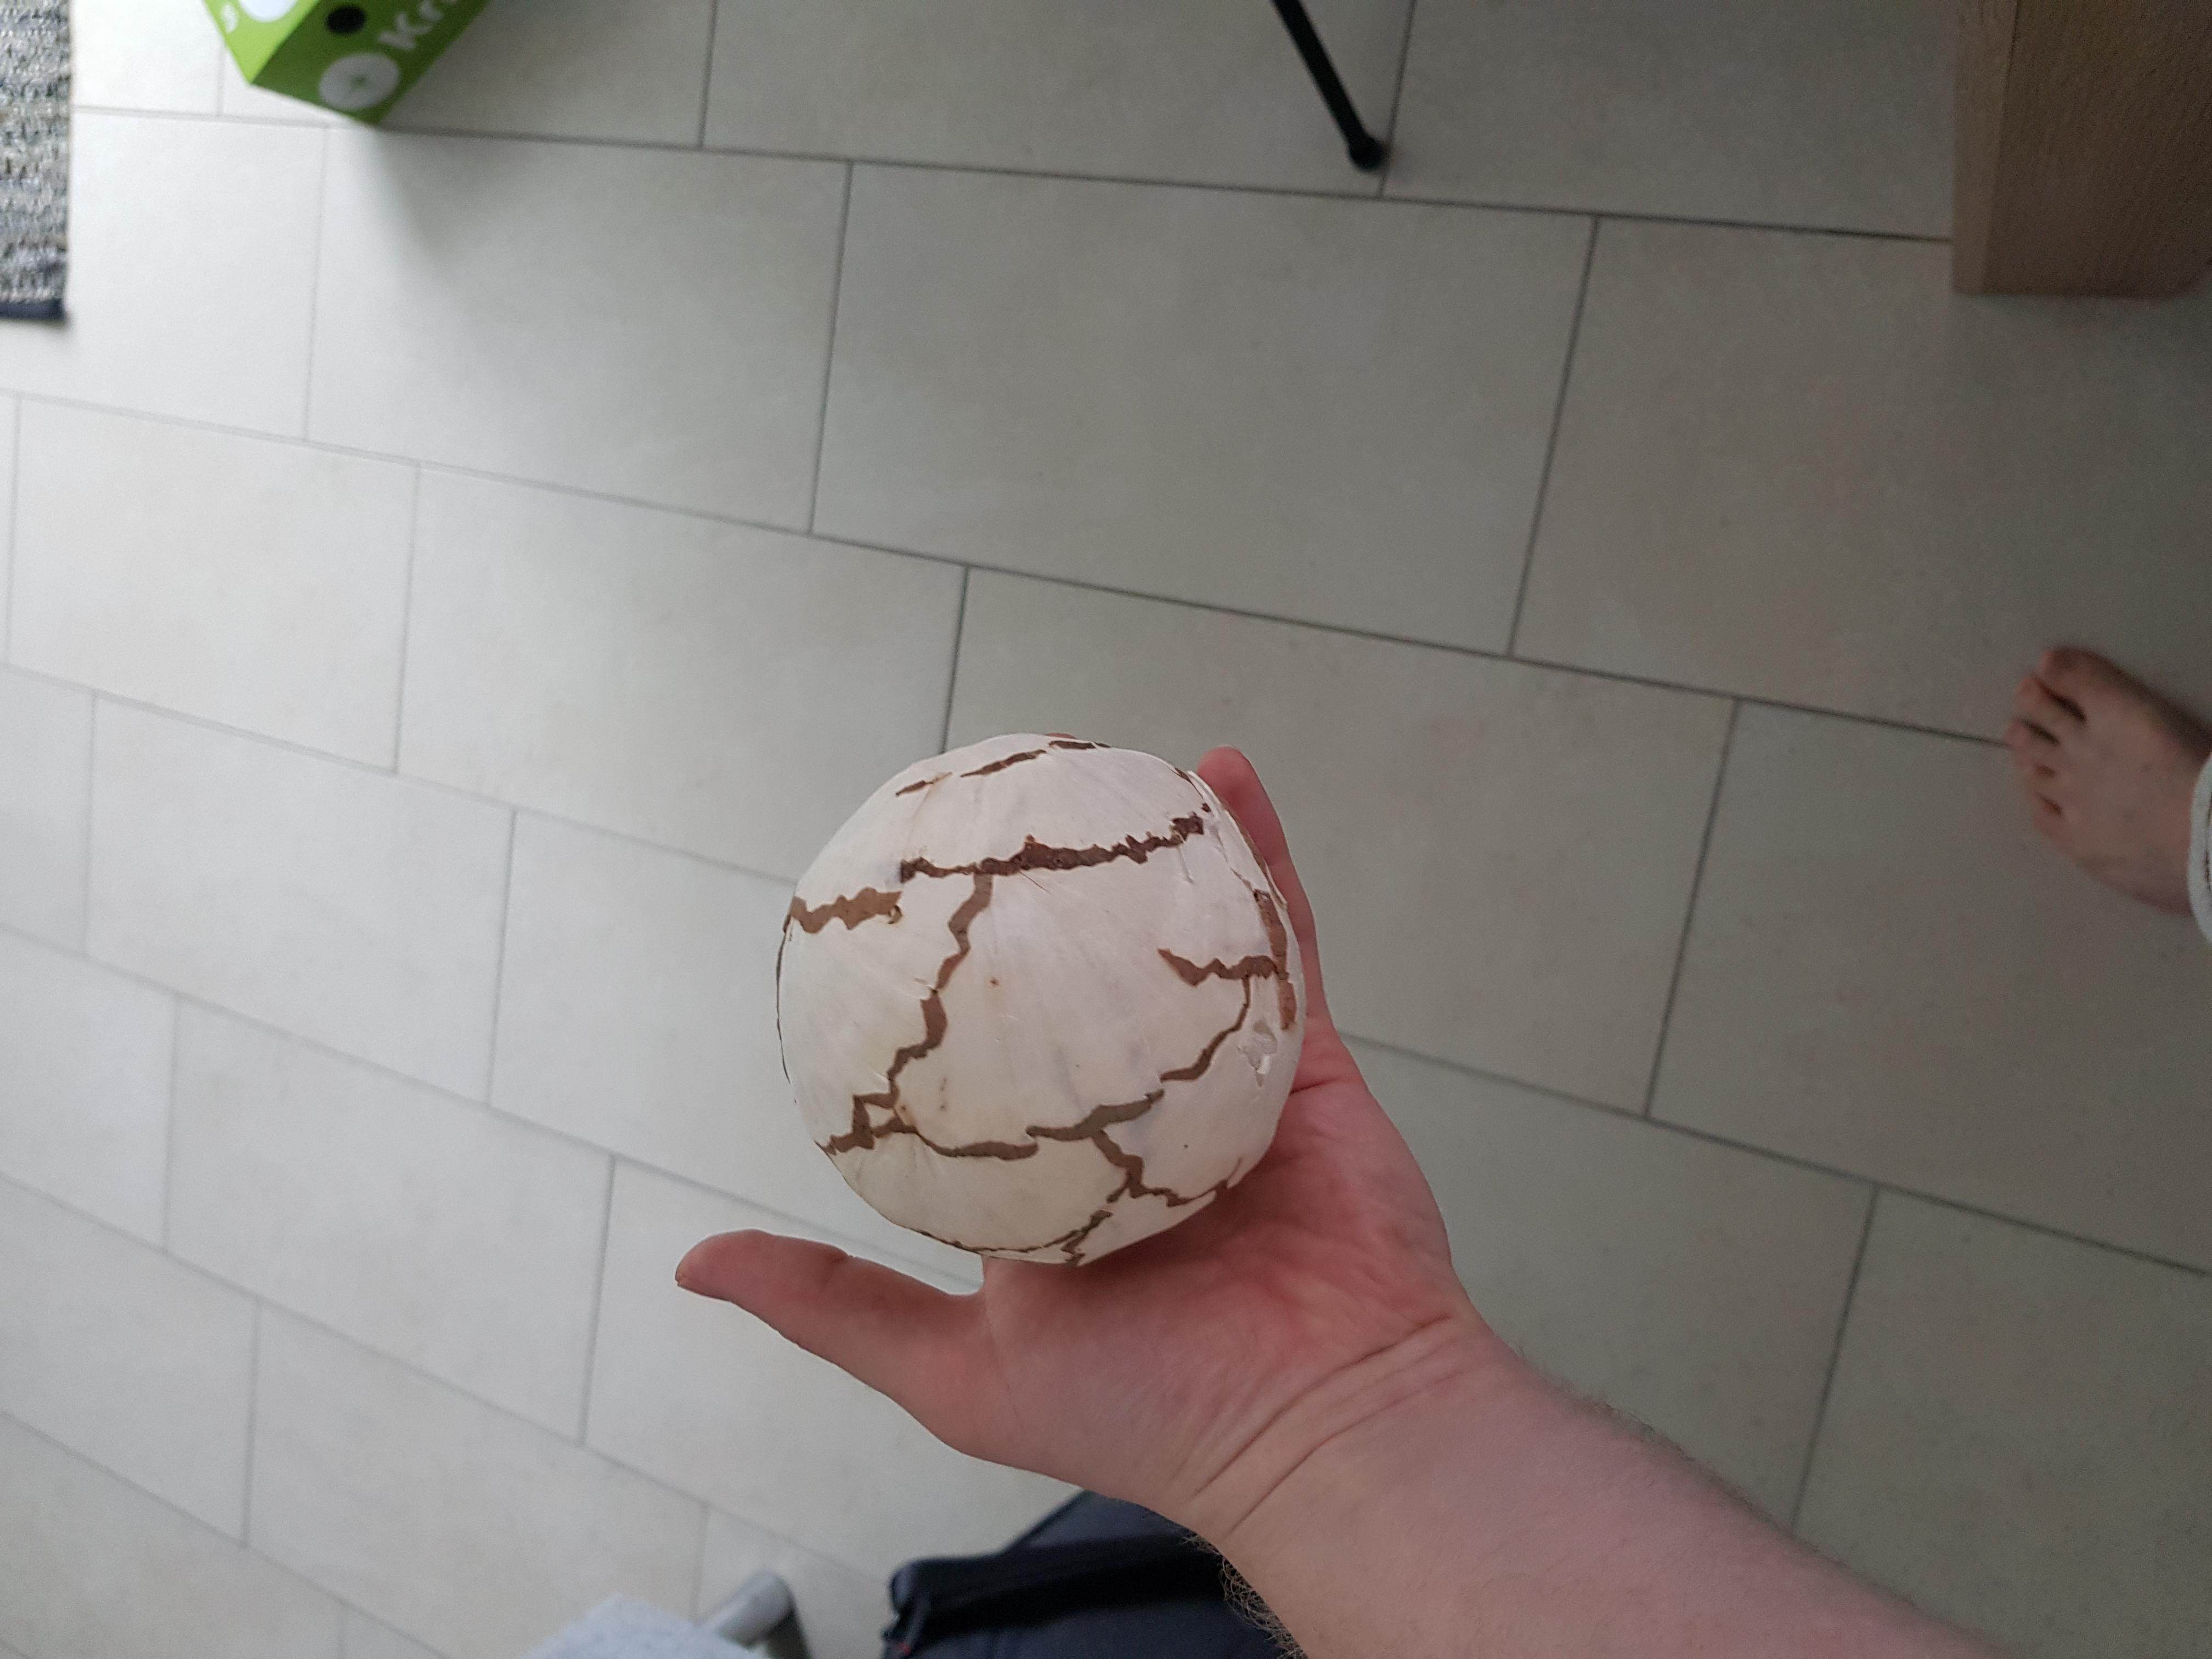sphere: (768, 739, 1287, 1263)
